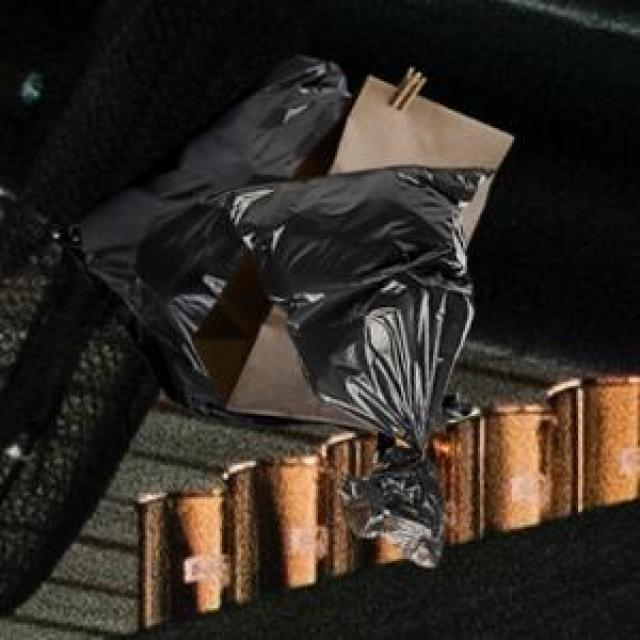miscellaneous trash: (53, 51, 467, 461), (200, 162, 491, 561)
paper: (188, 64, 510, 425)
